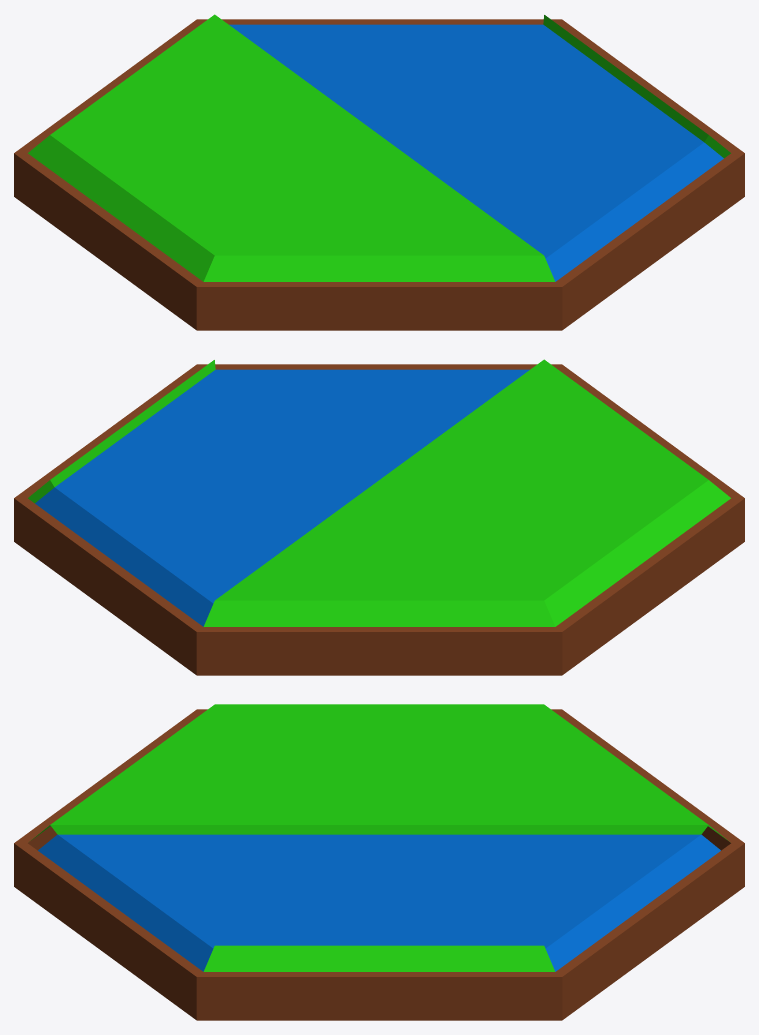
3 renders of one model, top to bottom at view 1: azimuth 30°, elevation 25°; view 2: azimuth 150°, elevation 25°; view 3: azimuth 270°, elevation 25°, orthographic.
Parts seen in each view (by area): view 1: SV3; view 2: SV3; view 3: SV3.
Part boxes in pixels (x1,y1,x2,y2): SV3: [14, 14, 744, 330]; SV3: [14, 359, 744, 675]; SV3: [14, 704, 744, 1020].
Bounding box in the file's own units: 173 × 18.65 × 200.
